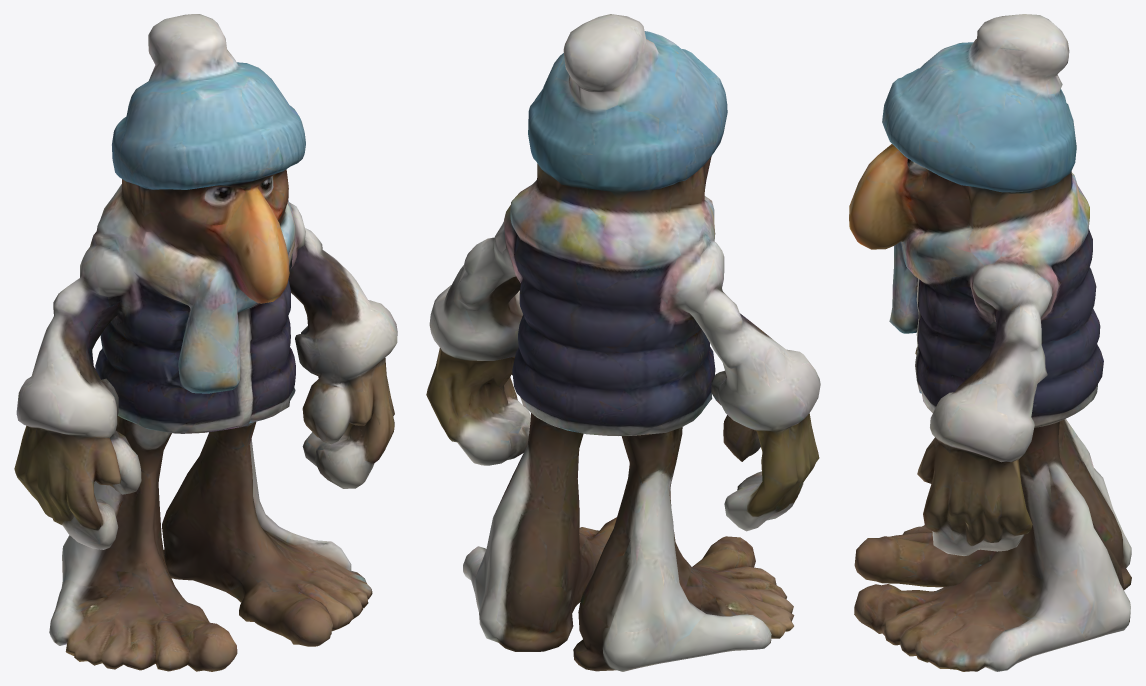
Rendered from patapim.glb.
3 renders of one model, left to right at view 1: azimuth 30°, elevation 25°; view 2: azimuth 150°, elevation 25°; view 3: azimuth 270°, elevation 25°, orthographic. The views are drawn at different scales.
Parts seen in each view (by area): view 1: Object_4; view 2: Object_4; view 3: Object_4.
Boxes of the visible parts, x1,y1,x2,y2 form: Object_4: (14,14,397,671); Object_4: (426,14,820,671); Object_4: (849,14,1131,671).
Bounding box in the file's own units: 1.32 × 2 × 0.881.
1 material, 1 textured.
